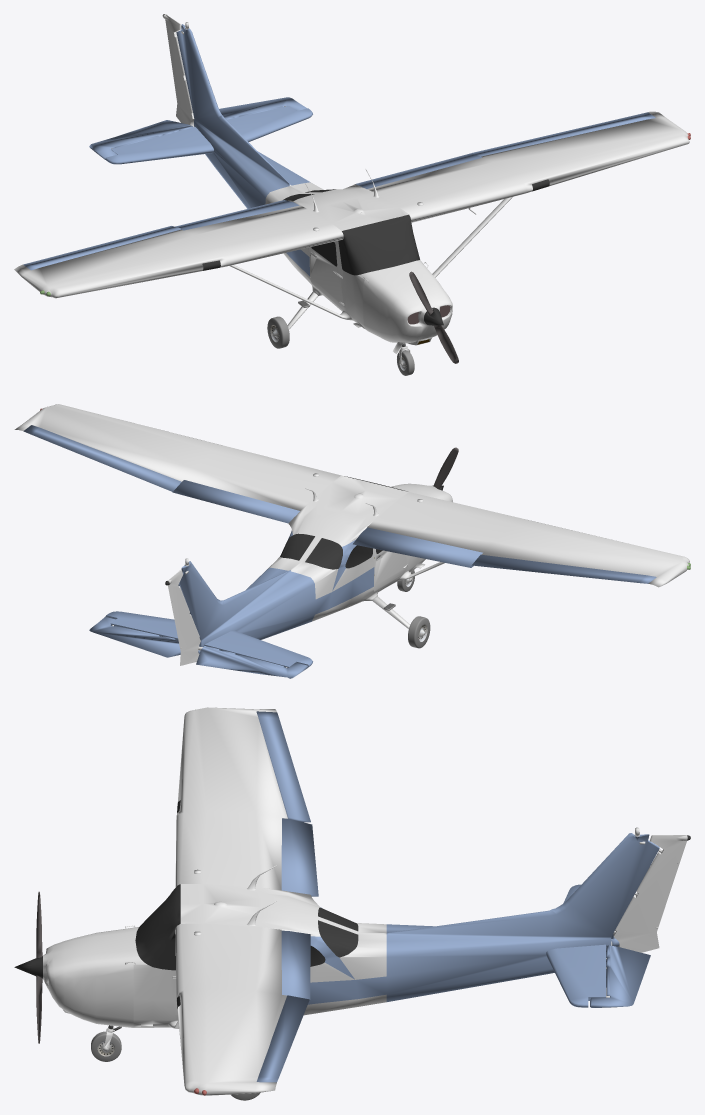
Rendered from cessna.gltf.
The picture shows the model from 3 angles, top to bottom: view 1: azimuth 30°, elevation 25°; view 2: azimuth 150°, elevation 25°; view 3: azimuth 270°, elevation 25°; orthographic projection. The views are drawn at different scales.
Visible parts, largest first — view 1: Wing.L, Wing.R, Tail, EngineCover, Body, Windows, Rudder, Elevon.R, cessna172sp.Shape.085, Airleron.L, Aileron.R, Flap.L (+4 smaller); view 2: Wing.L, Wing.R, Tail, Body, Flap.R, Aileron.R, Flap.L, Windows, Airleron.L, Elevon.R, Rudder, Elevon.L (+3 smaller); view 3: Tail, Wing.R, Wing.L, Body, EngineCover, Rudder, Windows, Flap.R, Aileron.R, Elevon.L, Airleron.L, Flap.L (+1 smaller).
Boxes of the visible parts, x1=… form: Wing.L: x1=367, y1=111, x2=689, y2=222; Wing.R: x1=14, y1=205, x2=343, y2=298; Tail: x1=105, y1=24, x2=312, y2=208; EngineCover: x1=358, y1=260, x2=452, y2=345; Body: x1=265, y1=182, x2=408, y2=330; Windows: x1=283, y1=189, x2=419, y2=275; Rudder: x1=163, y1=14, x2=194, y2=126; Elevon.R: x1=89, y1=120, x2=193, y2=159; cessna172sp.Shape.085: x1=309, y1=241, x2=343, y2=310; Airleron.L: x1=472, y1=112, x2=655, y2=156; Aileron.R: x1=23, y1=226, x2=180, y2=270; Flap.L: x1=355, y1=153, x2=481, y2=188; Wing.L: x1=14, y1=404, x2=341, y2=510; Wing.R: x1=367, y1=492, x2=689, y2=587; Tail: x1=105, y1=561, x2=315, y2=668; Body: x1=268, y1=475, x2=424, y2=621; Flap.R: x1=353, y1=527, x2=482, y2=567; Aileron.R: x1=471, y1=554, x2=656, y2=583; Flap.L: x1=172, y1=480, x2=299, y2=523; Windows: x1=280, y1=476, x2=407, y2=569; Airleron.L: x1=23, y1=425, x2=181, y2=491; Elevon.R: x1=196, y1=645, x2=308, y2=678; Rudder: x1=167, y1=569, x2=200, y2=665; Elevon.L: x1=89, y1=617, x2=180, y2=657; Tail: x1=386, y1=833, x2=659, y2=1007; Wing.R: x1=175, y1=707, x2=287, y2=890; Wing.L: x1=175, y1=923, x2=286, y2=1095; Body: x1=133, y1=884, x2=386, y2=1027; EngineCover: x1=43, y1=927, x2=146, y2=1027; Rudder: x1=613, y1=835, x2=687, y2=952; Windows: x1=135, y1=884, x2=358, y2=970; Flap.R: x1=281, y1=818, x2=318, y2=896; Aileron.R: x1=256, y1=711, x2=310, y2=822; Elevon.L: x1=590, y1=945, x2=650, y2=1007; Airleron.L: x1=256, y1=995, x2=309, y2=1082; Flap.L: x1=281, y1=930, x2=310, y2=999.
Bounding box in the file's own units: 4.39 × 1.23 × 3.26.
54 materials, 3 textured.
